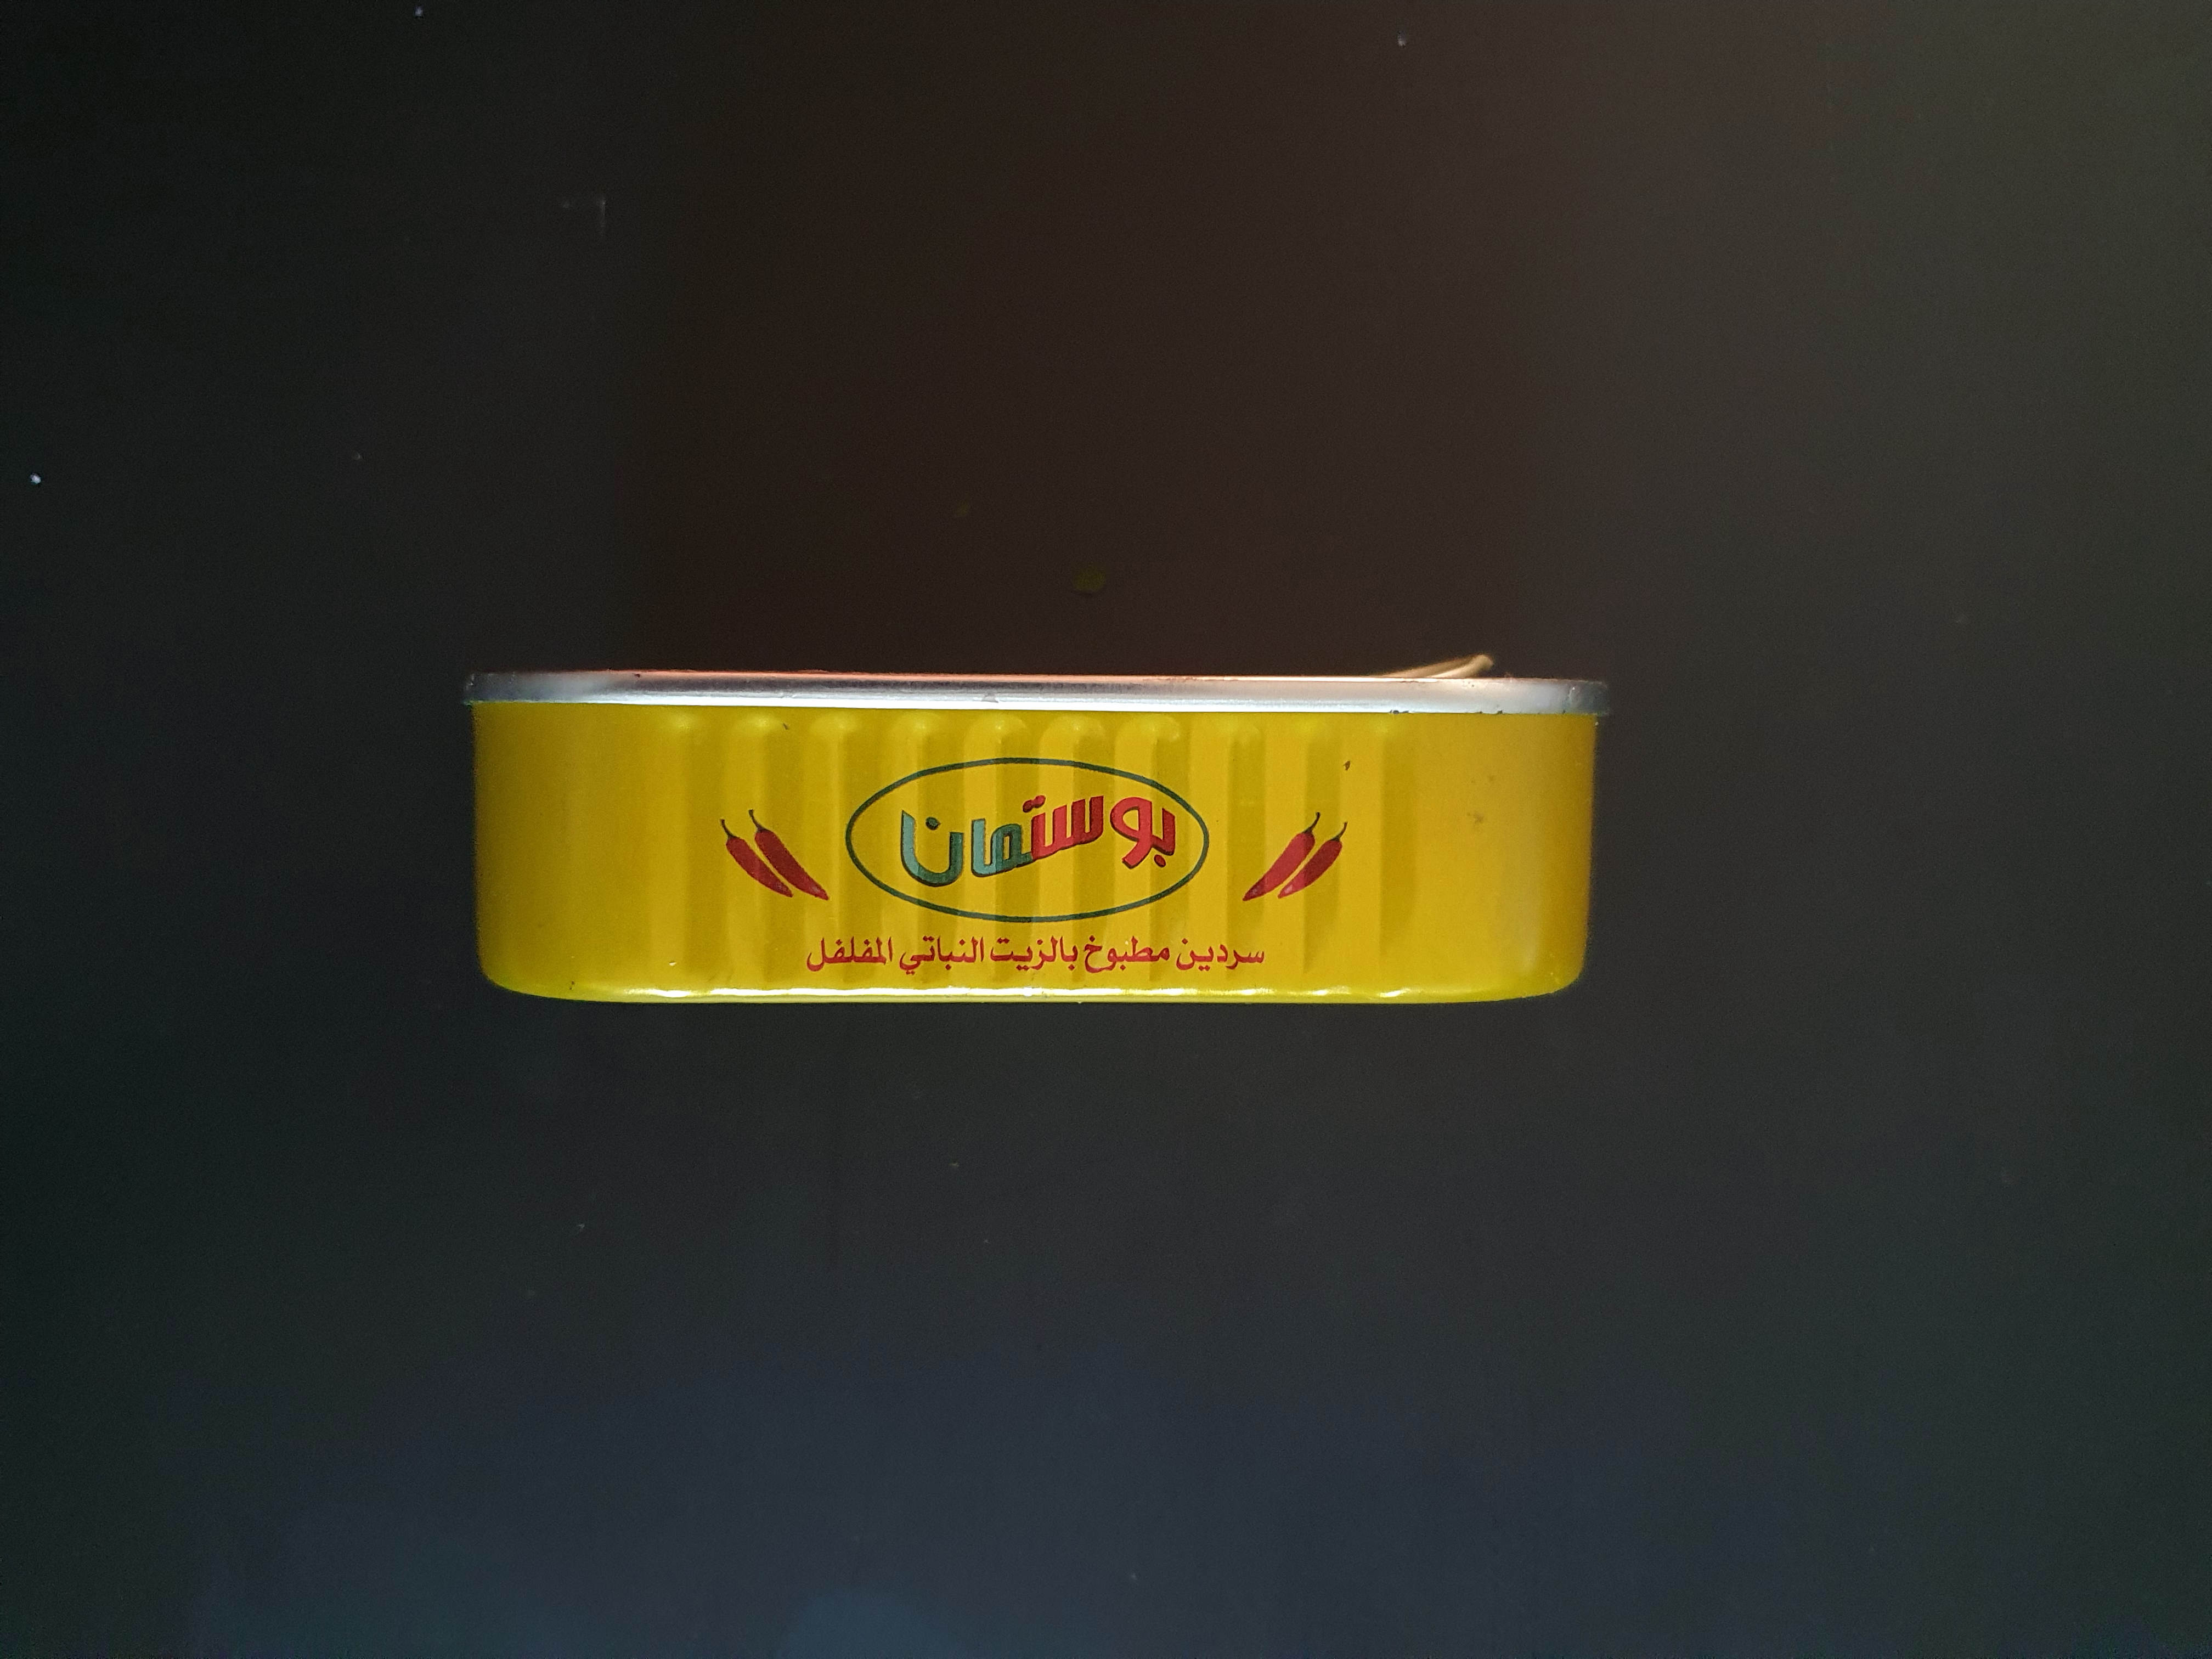metal: (390, 587, 1658, 1082)
